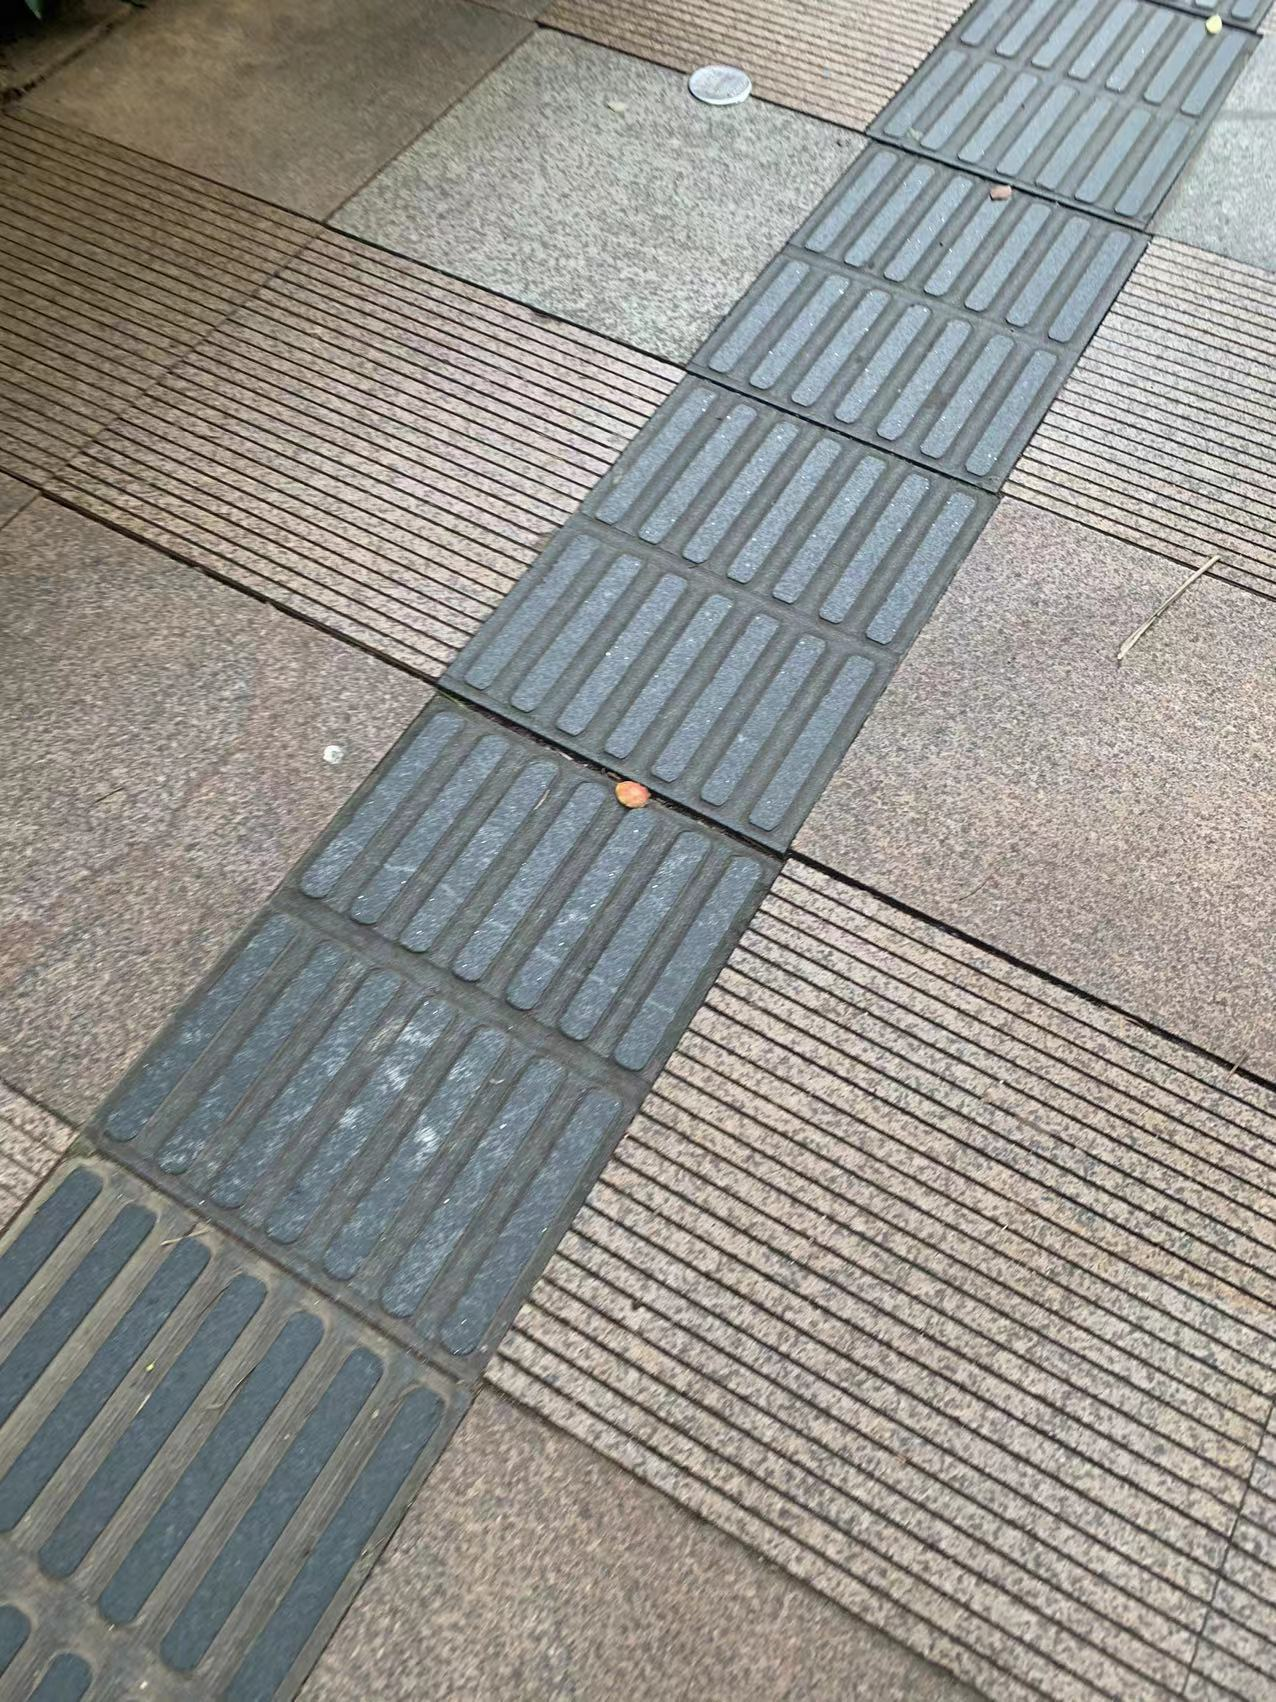leaf: (609, 773, 655, 813)
